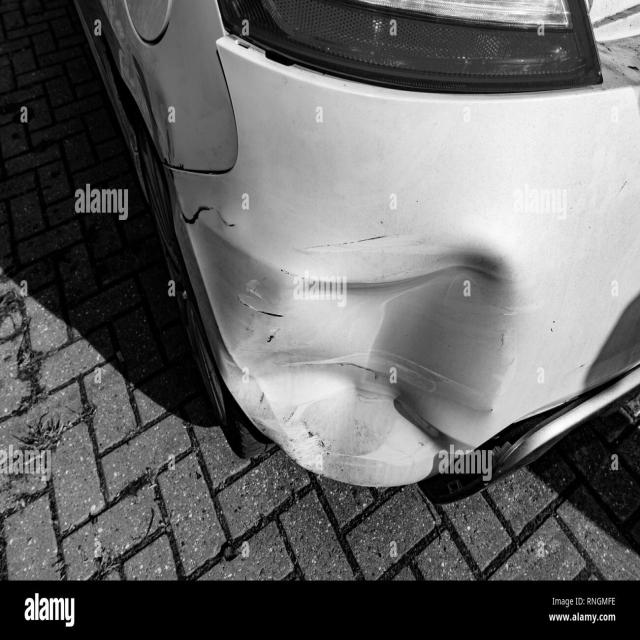dent: (200, 186, 523, 487)
misalignment: (419, 371, 632, 503), (215, 22, 486, 114), (174, 166, 233, 175)
scratch: (220, 224, 449, 484), (163, 156, 236, 230)
